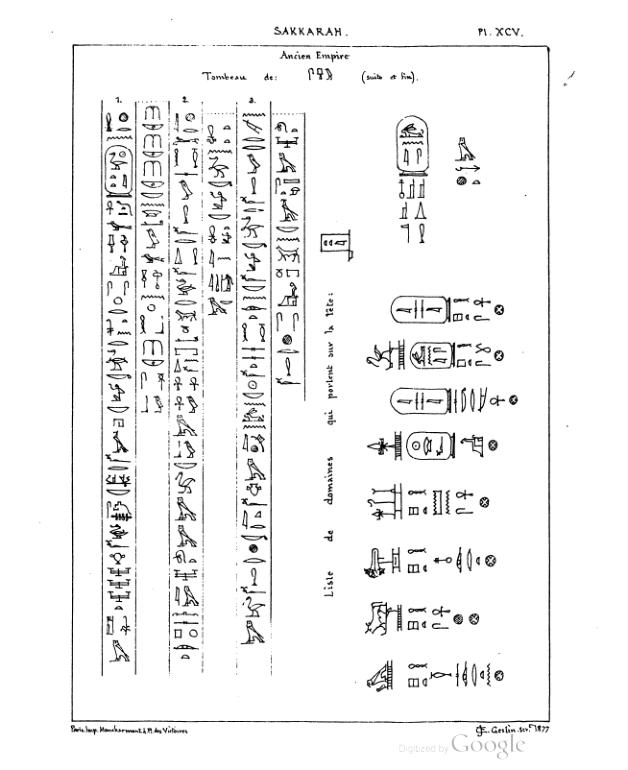circle: (391, 112, 432, 179), (386, 290, 453, 328), (405, 427, 461, 464), (386, 385, 454, 415), (406, 337, 458, 371), (103, 143, 134, 199)
